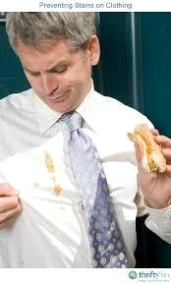mustard: (40, 144, 58, 178), (50, 184, 60, 197), (34, 181, 39, 187)
